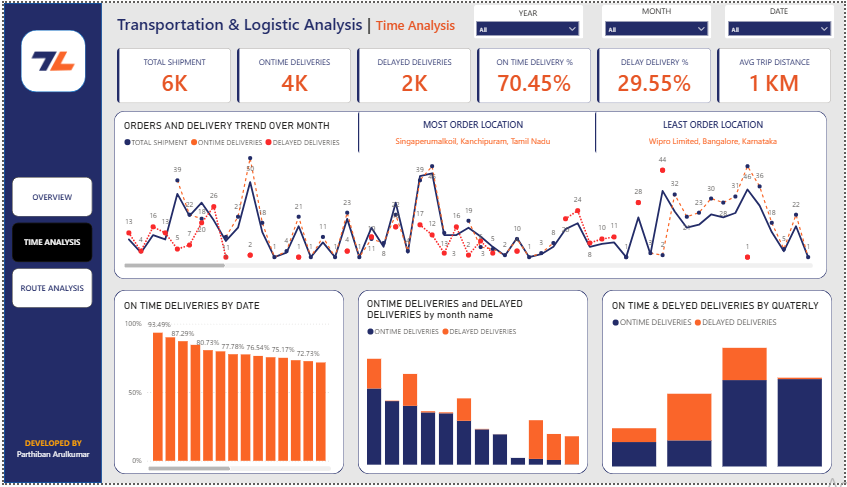

What the dashboard file says about the page in this screenshot:
{"tool":"powerbi","page":{"name":"TIME ANALYSIS","canvas":[1400,800],"ordinal":1},"visuals":[{"type":"shape","box":[1201,3,182,56],"z":0},{"type":"image","box":[12.2,21.1,90,87.8],"z":1000},{"type":"shape","box":[183.3,478.3,383.3,306.7],"z":2000},{"type":"shape","box":[183.3,180,1188.3,280],"z":3000},{"type":"lineChart","title":"ORDERS AND DELIVERY TREND OVER MONTH","fields":{"Category":["Dim_date.Day name","Dim_date.month name","Dim_date.Day","Dim_date.Year"],"Y":["Primary data.TOTAL SHIPMENT"],"Y2":["Primary data.ONTIME DELIVERIES","Primary data.DELAYED DELIVERIES"]},"box":[195,193.3,1158.3,253.3],"z":4000},{"type":"shape","box":[997,3,182,56],"z":5000},{"type":"shape","box":[783,3,182,56],"z":6000},{"type":"cardVisual","fields":{"Data":["Primary data.TOTAL SHIPMENT","Primary data.Delayed_deliveries","Primary data.On_time_deliveries","Primary data.DELAYED_DELIVERY%","Primary data.ON_TIME_DELIVERY%","Primary data.AVG TRIP DISTANCE"]},"box":[182.9,70.2,1200,102.9],"z":7000},{"type":"textbox","box":[183,11,581,48],"z":8000},{"type":"shape","box":[0,0,163.3,800],"z":9000},{"type":"textbox","box":[799,3,150,38],"z":10000},{"type":"textbox","box":[1032,0,112,35],"z":11000},{"type":"cardVisual","fields":{"Data":["Primary data.Top Delivery Location"]},"box":[590,180,383.3,71.7],"z":12000},{"type":"cardVisual","fields":{"Data":["Primary data.Least Delivery Location"]},"box":[985,180,393.3,71.7],"z":13000},{"type":"columnChart","title":"ON TIME DELIVERIES BY DATE","fields":{"Category":["Dim_date.Day"],"Y":["Primary data.ON TIME DELIVERY %"]},"box":[195,493.3,355,291.7],"z":14000},{"type":"slicer","fields":{"Values":["Dim_date.Year"]},"box":[782,25,182,34],"z":15000},{"type":"slicer","fields":{"Values":["Dim_date.Year"]},"box":[997,25,182,34],"z":16000},{"type":"slicer","fields":{"Values":["Dim_date.BookingID_Date"]},"box":[1201,25,182,34],"z":17000},{"type":"textbox","box":[1242,0,100,28],"z":18000},{"type":"shape","box":[28.9,44.4,107.5,103.6],"z":19000,"group":"g1"},{"type":"shape","box":[590,478.3,383.3,306.7],"z":19000},{"type":"image","box":[37.8,53.3,90,87.8],"z":20000,"group":"g1"},{"type":"shape","box":[996.7,478.3,383.3,306.7],"z":20000},{"type":"columnChart","title":"ON TIME & DELYED DELIVERIES BY QUATERLY","fields":{"Category":["Dim_date.Quarter"],"Y":["Primary data.ONTIME DELIVERIES","Primary data.DELAYED DELIVERIES"]},"box":[1008.9,492.7,359.8,285.5],"z":21000},{"type":"columnChart","fields":{"Category":["Dim_date.month name"],"Y":["Primary data.ONTIME DELIVERIES","Primary data.DELAYED DELIVERIES"]},"box":[600.3,490.8,363.7,285.5],"z":22000},{"type":"pageNavigator","box":[14,290,134,218],"z":23000},{"type":"group","id":"g1","title":"Group 1","box":[28.9,44.4,106.7,104.4],"z":23001},{"type":"textbox","box":[0,720,164,56],"z":23002}]}

Visuals, with their boxes in screenshot pixels (x1, y1, x2, y2), scaled from the page's 1400x800 canvas onto the 847x487 screenshot:
shape: detection(727, 2, 837, 36)
image: detection(7, 13, 62, 66)
shape: detection(111, 291, 343, 478)
shape: detection(111, 110, 830, 280)
"ORDERS AND DELIVERY TREND OVER MONTH" lineChart: detection(118, 118, 819, 272)
shape: detection(603, 2, 713, 36)
shape: detection(474, 2, 584, 36)
cardVisual - Primary data.TOTAL SHIPMENT x Primary data.Delayed_deliveries: detection(111, 43, 837, 105)
textbox: detection(111, 7, 462, 36)
shape: detection(0, 0, 99, 486)
textbox: detection(483, 2, 574, 25)
textbox: detection(624, 0, 692, 21)
cardVisual - Primary data.Top Delivery Location: detection(357, 110, 589, 153)
cardVisual - Primary data.Least Delivery Location: detection(596, 110, 834, 153)
"ON TIME DELIVERIES BY DATE" columnChart: detection(118, 300, 333, 478)
slicer - Dim_date.Year: detection(473, 15, 583, 36)
slicer - Dim_date.Year: detection(603, 15, 713, 36)
slicer - Dim_date.BookingID_Date: detection(727, 15, 837, 36)
textbox: detection(751, 0, 812, 17)
shape: detection(17, 27, 83, 90)
shape: detection(357, 291, 589, 478)
image: detection(23, 32, 77, 86)
shape: detection(603, 291, 835, 478)
"ON TIME & DELYED DELIVERIES BY QUATERLY" columnChart: detection(610, 300, 828, 474)
columnChart - Dim_date.month name x Primary data.ONTIME DELIVERIES: detection(363, 299, 583, 473)
pageNavigator: detection(8, 177, 90, 309)
"Group 1" group: detection(17, 27, 82, 91)
textbox: detection(0, 438, 99, 472)
